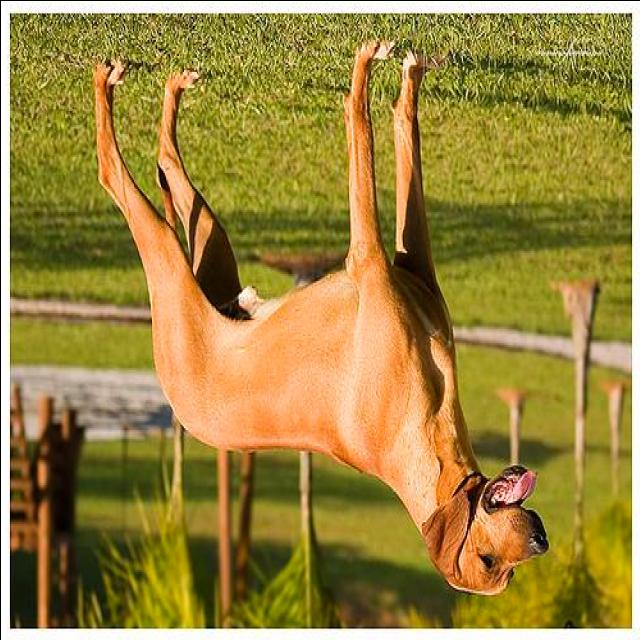rhodesian_ridgeback: (92, 39, 548, 596)
